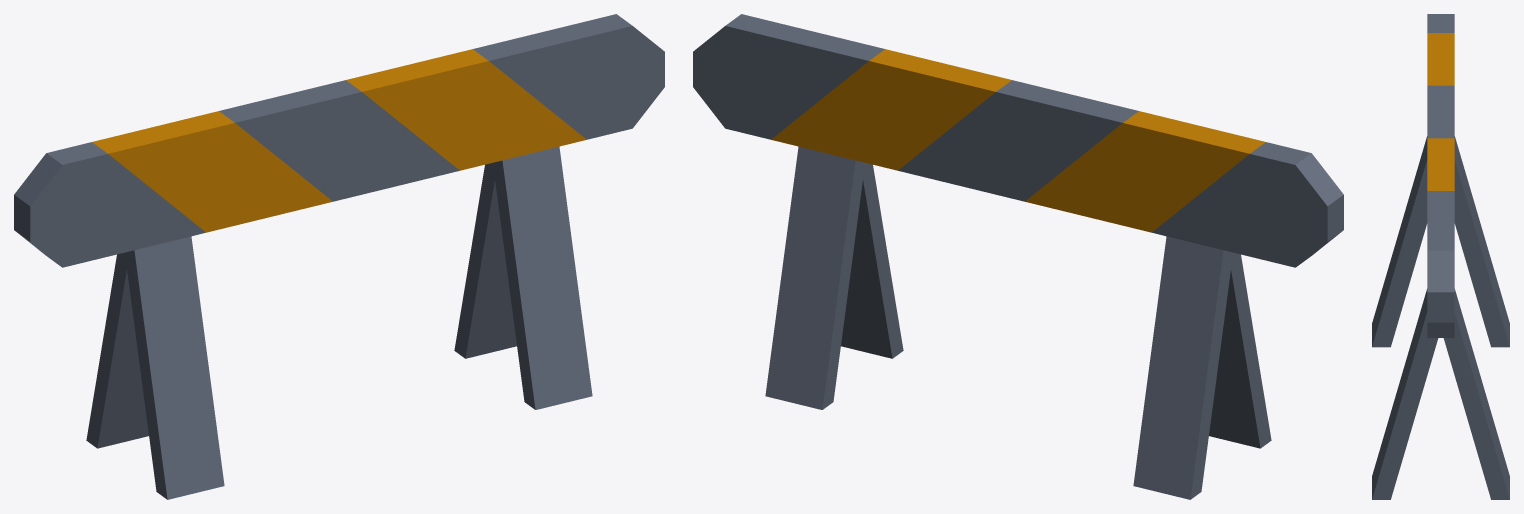
File: Barrier 1.fbx
3 views of the same model, side by side, from view 1: azimuth 30°, elevation 25°; view 2: azimuth 150°, elevation 25°; view 3: azimuth 270°, elevation 25° (orthographic). The views are drawn at different scales.
Visible parts, largest first — view 1: Barrier_01; view 2: Barrier_01; view 3: Barrier_01.
Boxes of the visible parts, left/top/right/bottom form: Barrier_01: left=14, top=14, right=664, bottom=499; Barrier_01: left=693, top=14, right=1343, bottom=499; Barrier_01: left=1372, top=14, right=1509, bottom=499.
Bounding box in the file's own units: 129 × 64.01 × 28.63.
